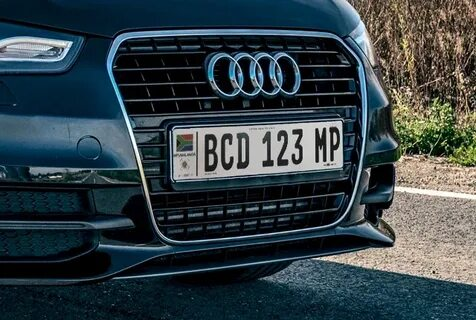number_plate: (168, 124, 346, 174)
